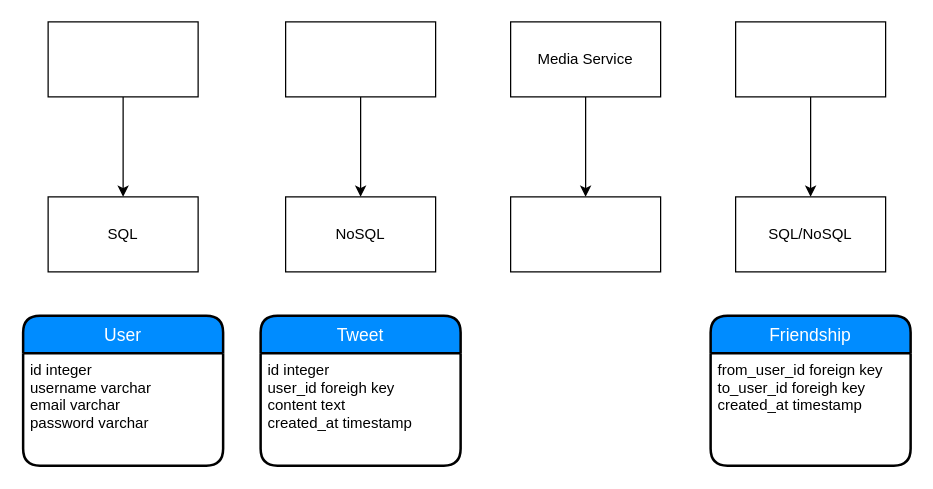
The diagram is 933 pixels wide and 489 high, and some of its shapes have lost their labels. Each missing label, with the centre of its shape:
"File System" goes at (x=585, y=234).
"Friendship Service" goes at (x=810, y=59).
"Tweet Service" goes at (x=360, y=59).
"User Service" goes at (x=122, y=59).
